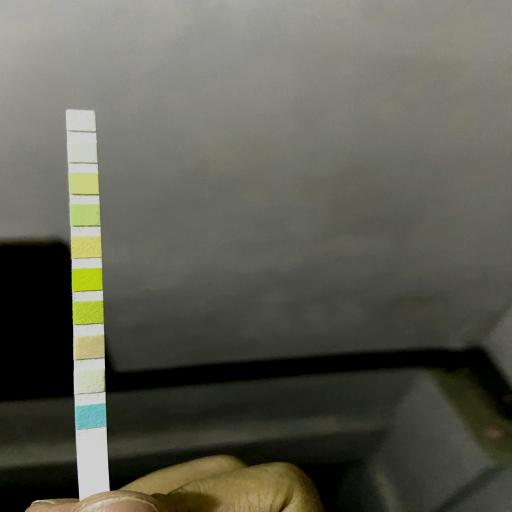Bilirubin: (74, 370, 104, 392)
Blood: (72, 270, 102, 290)
Glucose: (76, 406, 106, 428)
Ketone: (73, 336, 104, 357)
Leukocytes: (67, 112, 95, 130)
Nitrite: (69, 142, 96, 162)
Protein: (71, 206, 99, 224)
SpGravity: (73, 302, 103, 323)
Urobilinogen: (70, 174, 98, 194)
pH: (72, 238, 101, 258)
strip: (66, 108, 110, 493)
